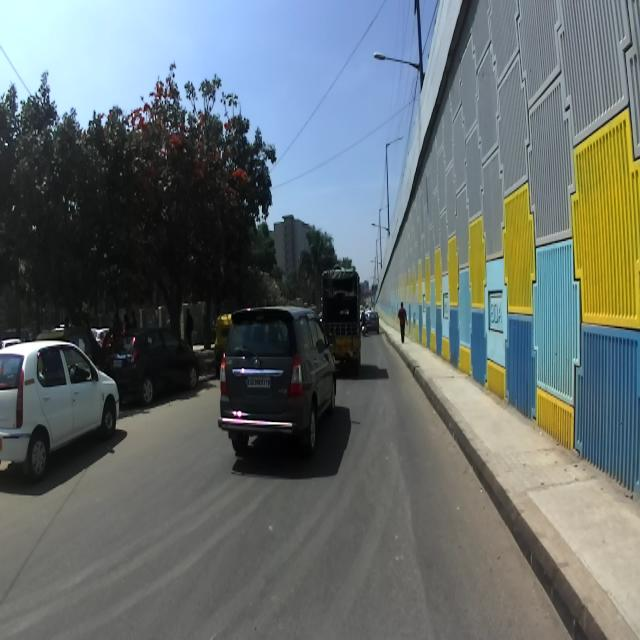car ahead at: (202, 292, 343, 479), (0, 340, 120, 477), (100, 314, 202, 424)
